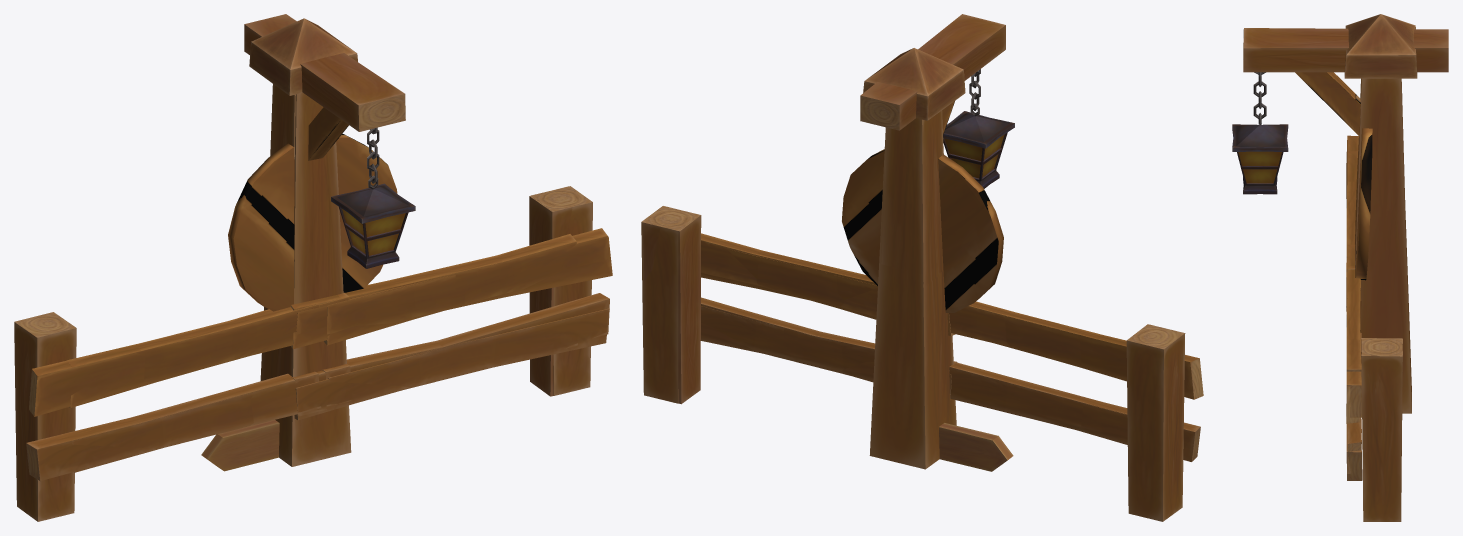
File: Wooden Environment Set 01.fbx
3 views of the same model, side by side, from view 1: azimuth 30°, elevation 25°; view 2: azimuth 150°, elevation 25°; view 3: azimuth 270°, elevation 25° (orthographic). The views are drawn at different scales.
Parts seen in each view (by area): view 1: wdsignpostbeam01, wdfence01_R0short, wdlantern01, wdfence01_LlongR0short, wdfence01_single, wdtargetdisk, wdfence01_RlongL0short, wdfence01_inbetween, wdfence01_L0longRlong, wdfence01_LlongR0long, wdsigntemplate; view 2: wdsignpostbeam01, wdlantern01, wdfence01_R0short, wdtargetdisk, wdfence01_RlongL0short, wdfence01_LlongR0short, wdfence01_single, wdfence01_inbetween, wdfence01_L0longRlong, wdsigntemplate, wdfence01_LlongR0long; view 3: wdsignpostbeam01, wdlantern01, wdfence01_RlongL0short, wdfence01_single, wdtargetdisk, wdfence01_L0longRlong, wdfence01_LlongR0short, wdfence01_inbetween, wdfence01_R0short, wdfence01_LlongR0long.
Boxes of the visible parts, x1=… form: wdsignpostbeam01: x1=249, y1=18, x2=357, y2=466; wdfence01_R0short: x1=14, y1=304, x2=321, y2=521; wdlantern01: x1=244, y1=14, x2=415, y2=268; wdfence01_LlongR0short: x1=32, y1=304, x2=320, y2=480; wdfence01_single: x1=291, y1=186, x2=609, y2=420; wdtargetdisk: x1=228, y1=134, x2=397, y2=311; wdfence01_RlongL0short: x1=322, y1=186, x2=611, y2=406; wdfence01_inbetween: x1=324, y1=234, x2=577, y2=400; wdfence01_L0longRlong: x1=291, y1=236, x2=612, y2=416; wdfence01_LlongR0long: x1=26, y1=292, x2=351, y2=479; wdsigntemplate: x1=201, y1=420, x2=279, y2=471; wdsignpostbeam01: x1=863, y1=48, x2=965, y2=469; wdlantern01: x1=860, y1=14, x2=1014, y2=286; wdfence01_R0short: x1=1004, y1=323, x2=1185, y2=521; wdtargetdisk: x1=842, y1=149, x2=1003, y2=312; wdfence01_RlongL0short: x1=641, y1=206, x2=877, y2=403; wdfence01_LlongR0short: x1=949, y1=301, x2=1198, y2=461; wdfence01_single: x1=642, y1=206, x2=955, y2=404; wdfence01_inbetween: x1=701, y1=233, x2=877, y2=382; wdfence01_L0longRlong: x1=701, y1=249, x2=957, y2=374; wdsigntemplate: x1=939, y1=423, x2=1013, y2=471; wdfence01_LlongR0long: x1=997, y1=316, x2=1203, y2=461; wdsignpostbeam01: x1=1344, y1=14, x2=1417, y2=413; wdlantern01: x1=1232, y1=28, x2=1448, y2=225; wdfence01_RlongL0short: x1=1346, y1=263, x2=1402, y2=521; wdfence01_single: x1=1346, y1=244, x2=1402, y2=473; wdtargetdisk: x1=1355, y1=128, x2=1372, y2=280; wdfence01_L0longRlong: x1=1346, y1=272, x2=1362, y2=480; wdfence01_LlongR0short: x1=1346, y1=136, x2=1356, y2=256; wdfence01_inbetween: x1=1346, y1=280, x2=1361, y2=432; wdfence01_R0short: x1=1346, y1=151, x2=1357, y2=257; wdfence01_LlongR0long: x1=1346, y1=135, x2=1361, y2=300.
Bounding box in the file's own units: 4.56 × 3.23 × 1.64.
2 materials, 2 textured.
